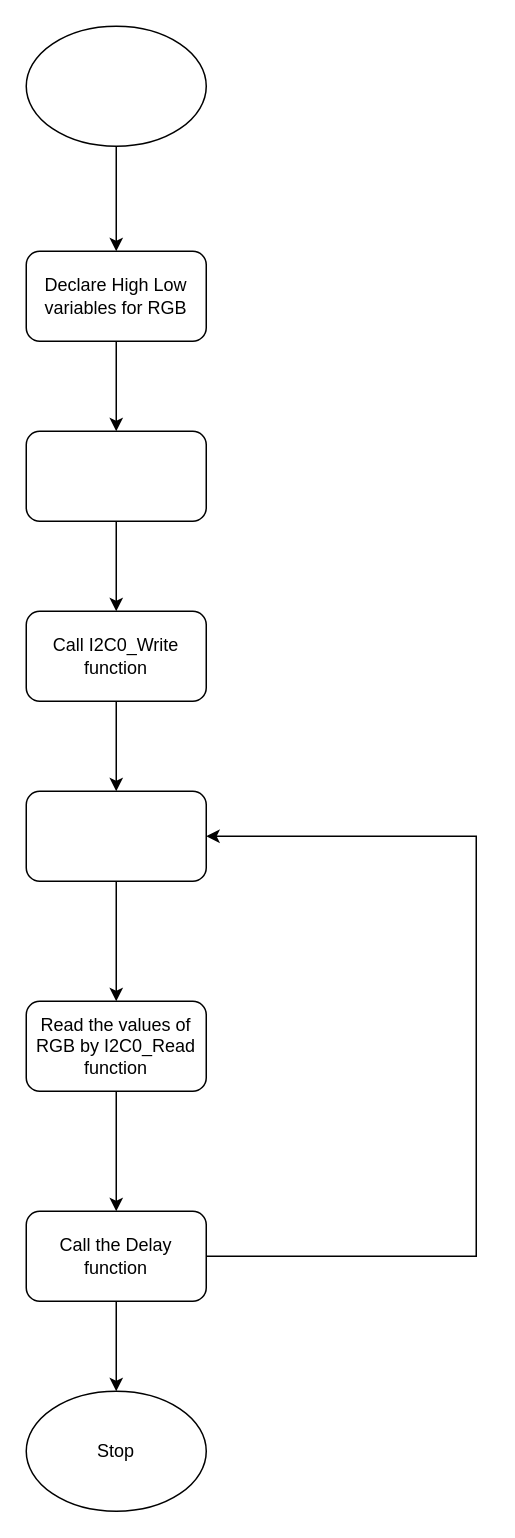
This 515x1538 diagram has some shape labels left out. The centre of each missing label's shape, as x and y in pixels:
Call I2C0_Init function: point 115,475
Infinite Loop: point 115,835
Start: point 115,85
